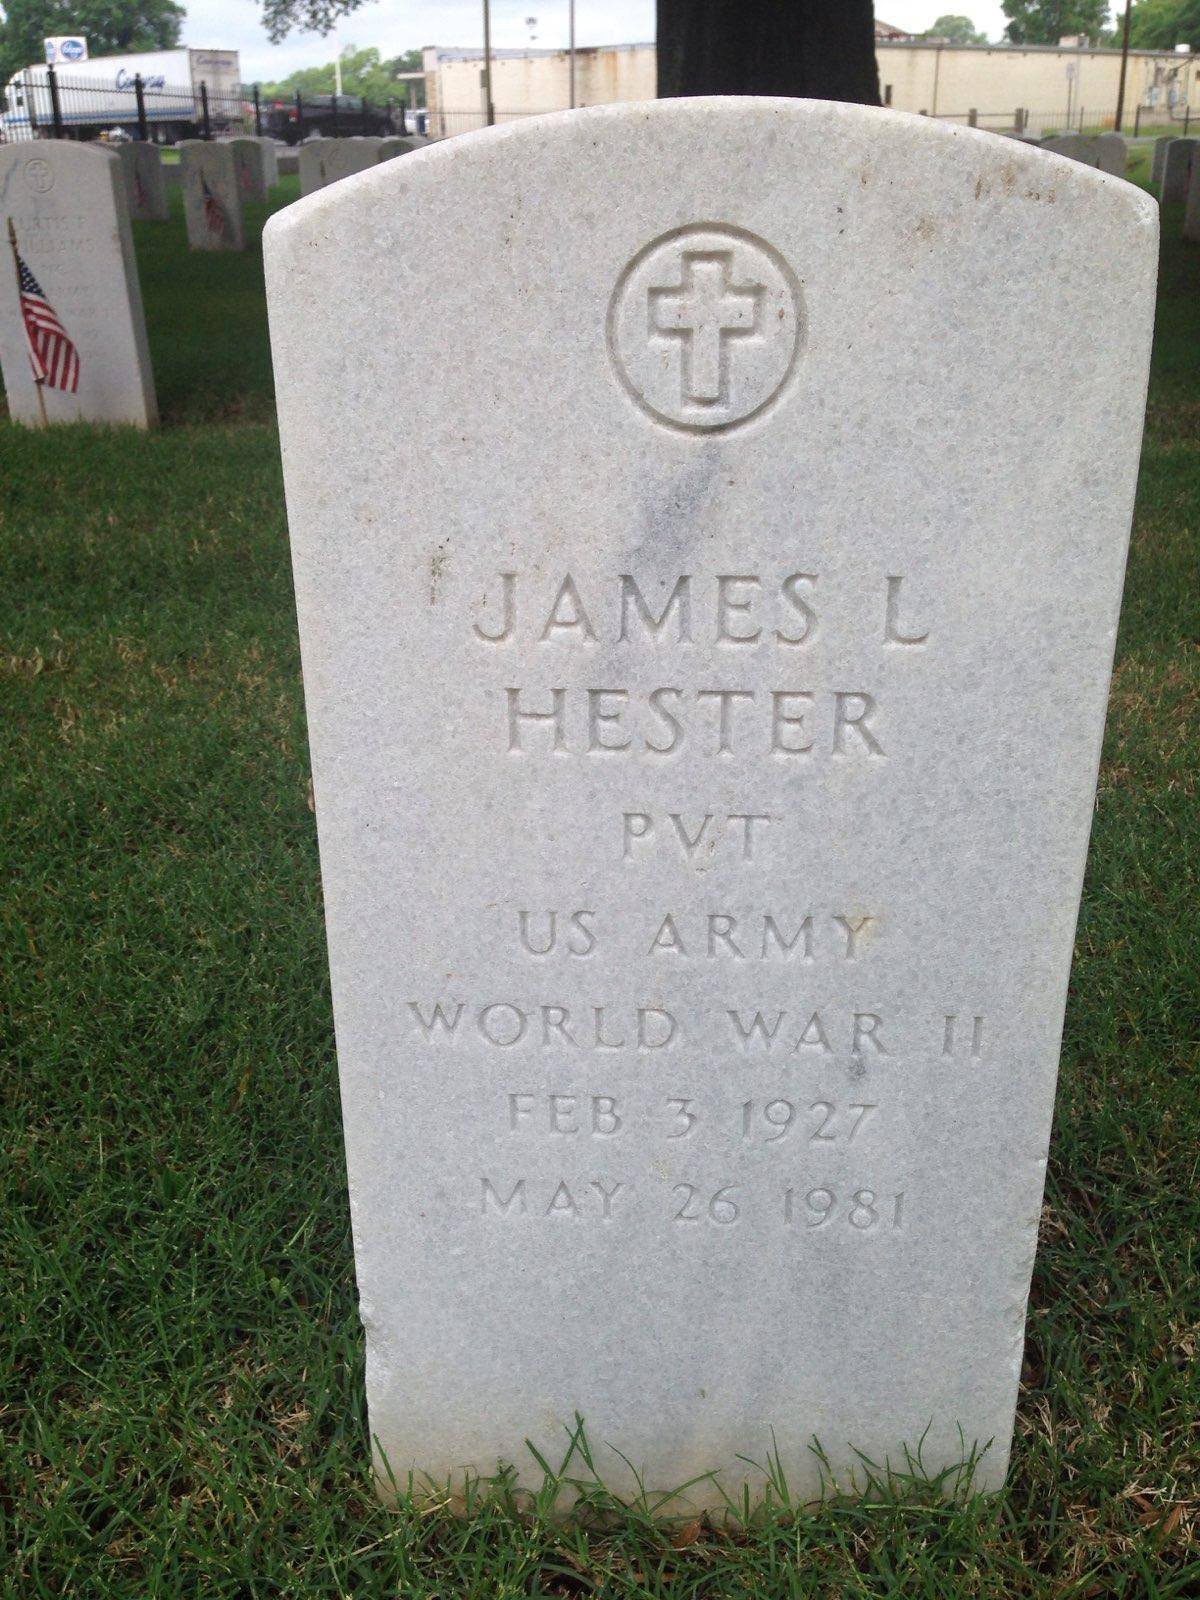military: (219, 103, 1174, 1509)
